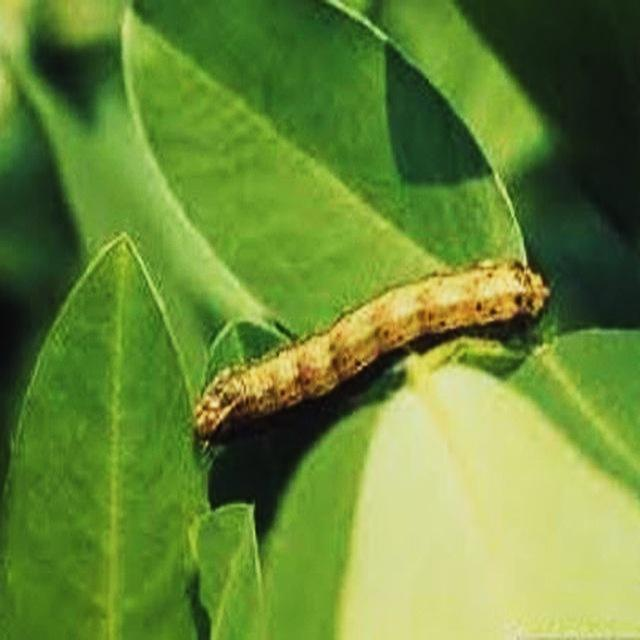gusano_cogollero: (190, 254, 552, 448)
